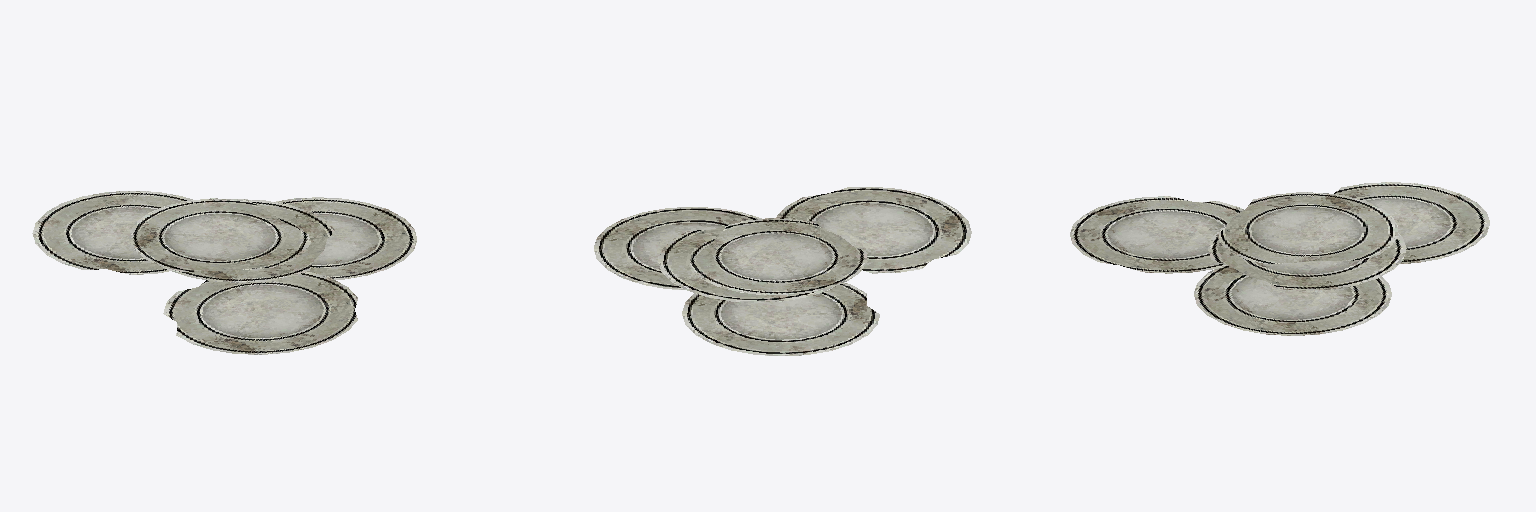
3 views of the same model, side by side, from view 1: azimuth 30°, elevation 25°; view 2: azimuth 150°, elevation 25°; view 3: azimuth 270°, elevation 25° (orthographic).
Parts seen in each view (by area): view 1: AA_Kitchen_Plates03_St; view 2: AA_Kitchen_Plates03_St; view 3: AA_Kitchen_Plates03_St.
Boxes of the visible parts, x1,y1,x2,y2 form: AA_Kitchen_Plates03_St: [32, 191, 416, 354]; AA_Kitchen_Plates03_St: [594, 187, 971, 355]; AA_Kitchen_Plates03_St: [1070, 182, 1489, 335].
Size of the model in its own units: 61.92 by 5.51 by 72.91.
Materials: 1 (1 with a texture image).